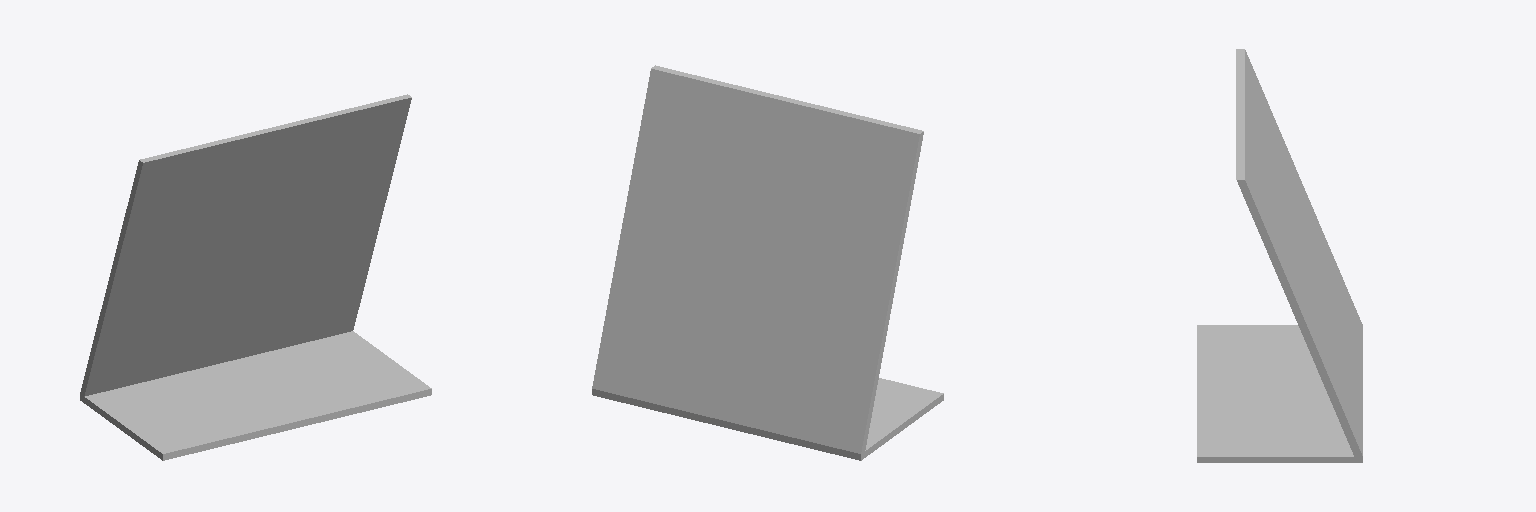
Rendered from unit.obj.
3 renders of one model, left to right at view 1: azimuth 30°, elevation 25°; view 2: azimuth 150°, elevation 25°; view 3: azimuth 270°, elevation 25°, orthographic.
Visible parts, largest first — view 1: Cube; view 2: Cube; view 3: Cube.
Boxes of the visible parts, <box> form: Cube: <box>80,94,431,460</box>; Cube: <box>592,65,943,460</box>; Cube: <box>1197,49,1362,462</box>.
Size of the model in its own units: 2 by 2.01 by 1.07.